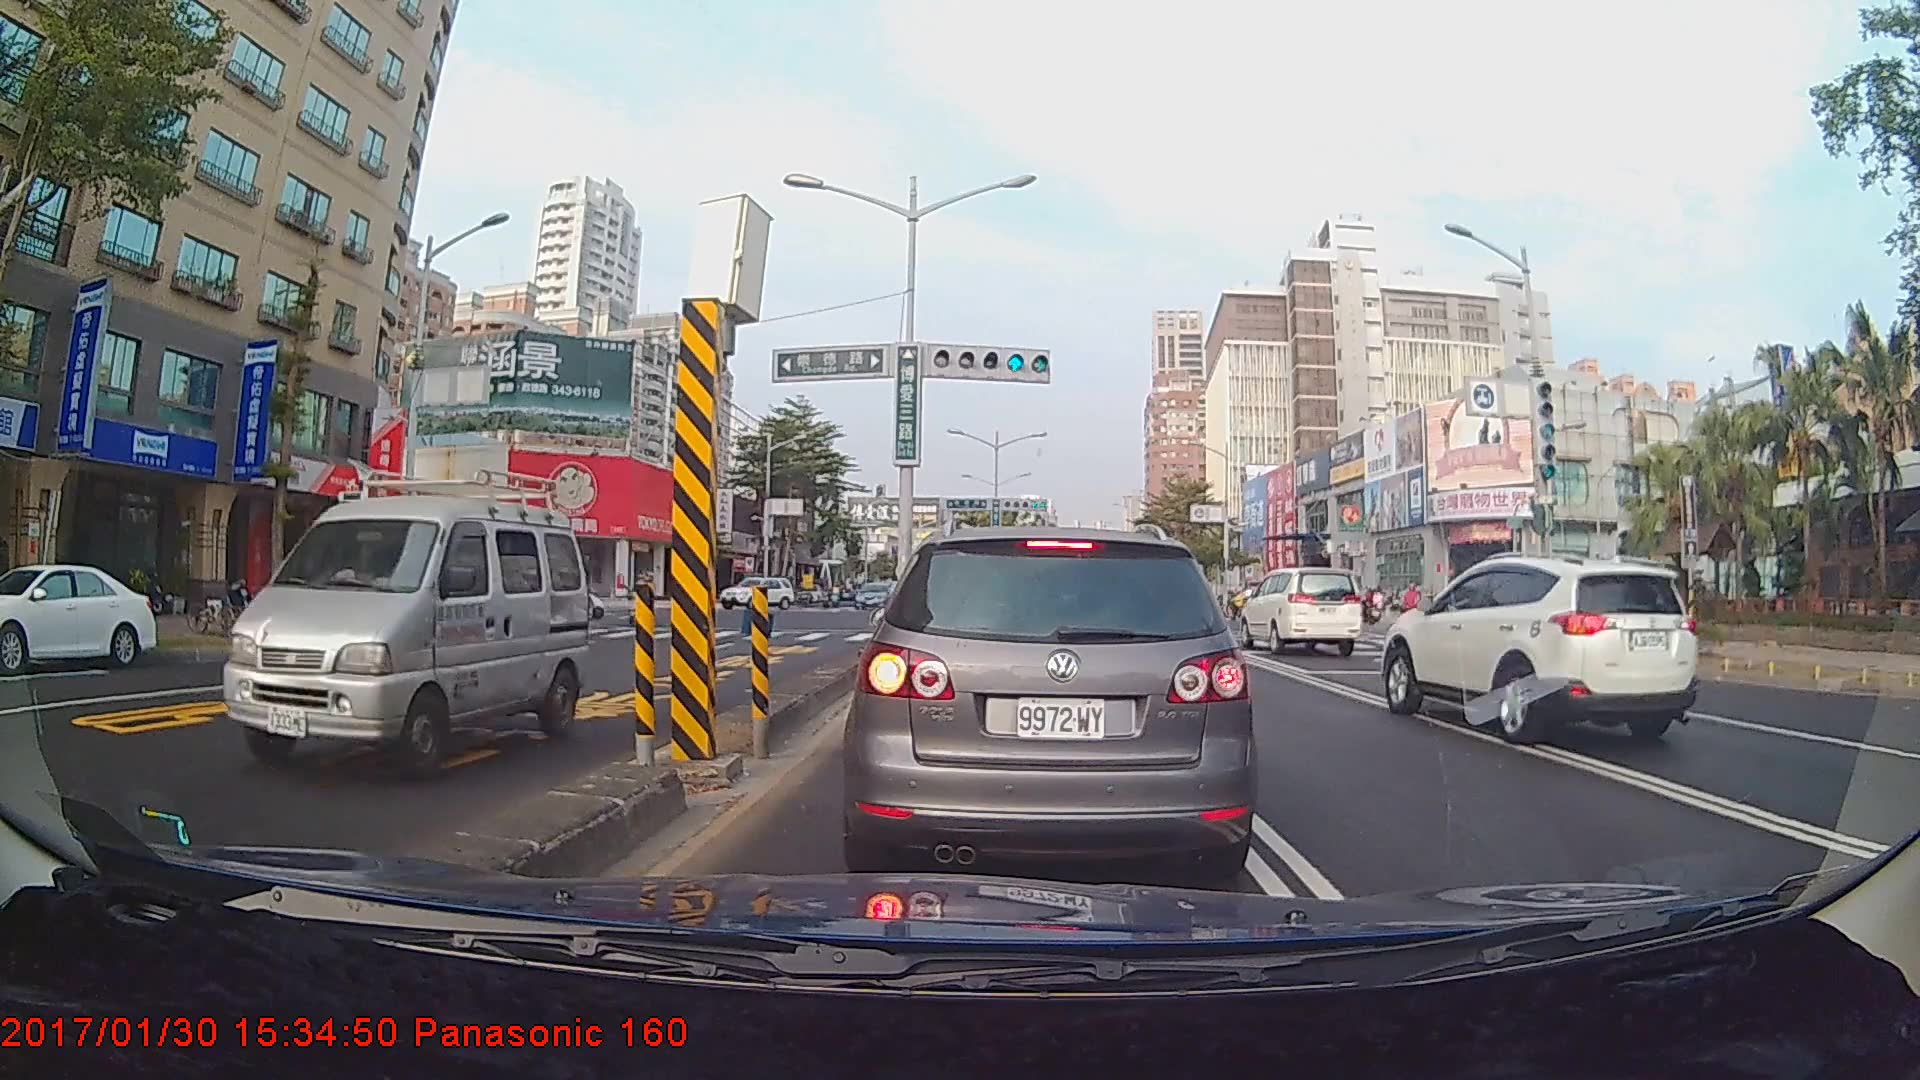rider: (562, 568, 614, 625), (1397, 580, 1422, 637)
vehicle: (855, 524, 1247, 877), (219, 465, 586, 780), (1379, 551, 1701, 742), (0, 561, 157, 671), (1235, 565, 1364, 658), (854, 580, 894, 611)
